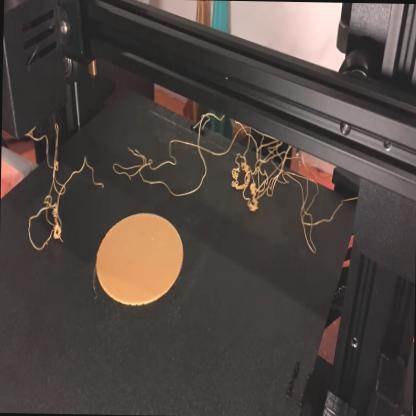fail: (112, 138, 342, 216), (23, 124, 105, 253)
